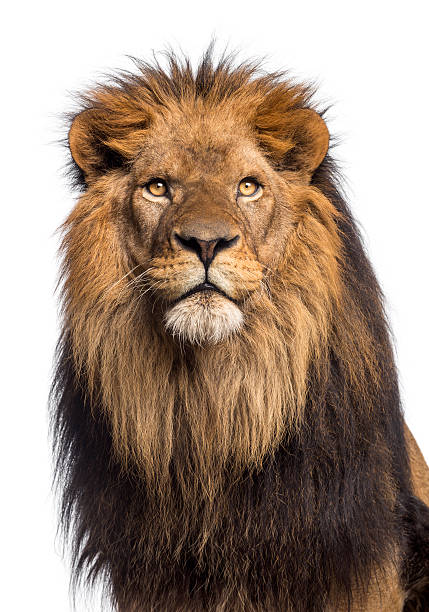lion: (34, 46, 380, 510)
